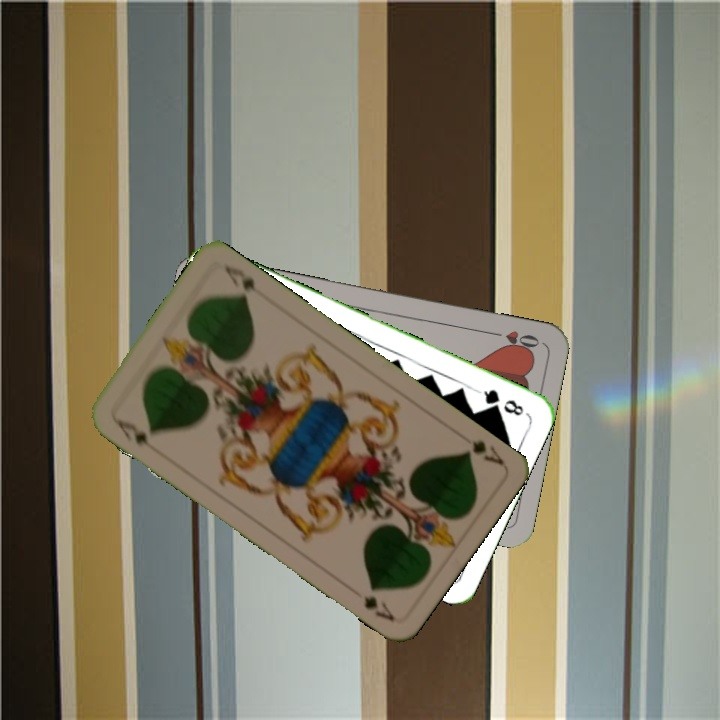G8: (473, 384, 527, 419)
GA: (108, 413, 160, 454), (460, 436, 506, 468)
HO: (485, 326, 543, 354)
